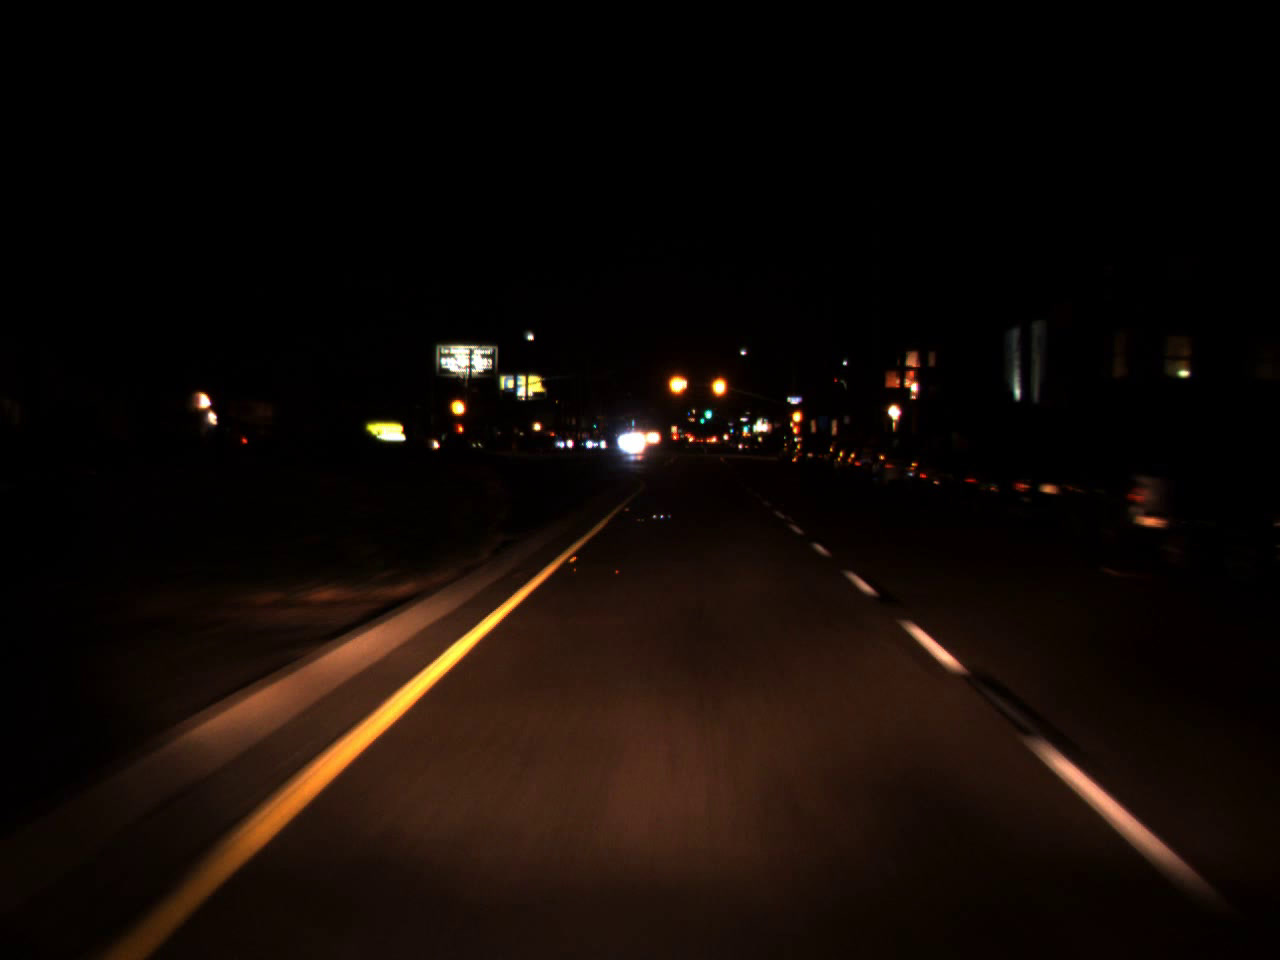go: (703, 400, 712, 421), (742, 419, 749, 432), (698, 413, 705, 425)
warning: (664, 361, 689, 406), (708, 365, 729, 407), (449, 388, 467, 425), (791, 406, 803, 423)
